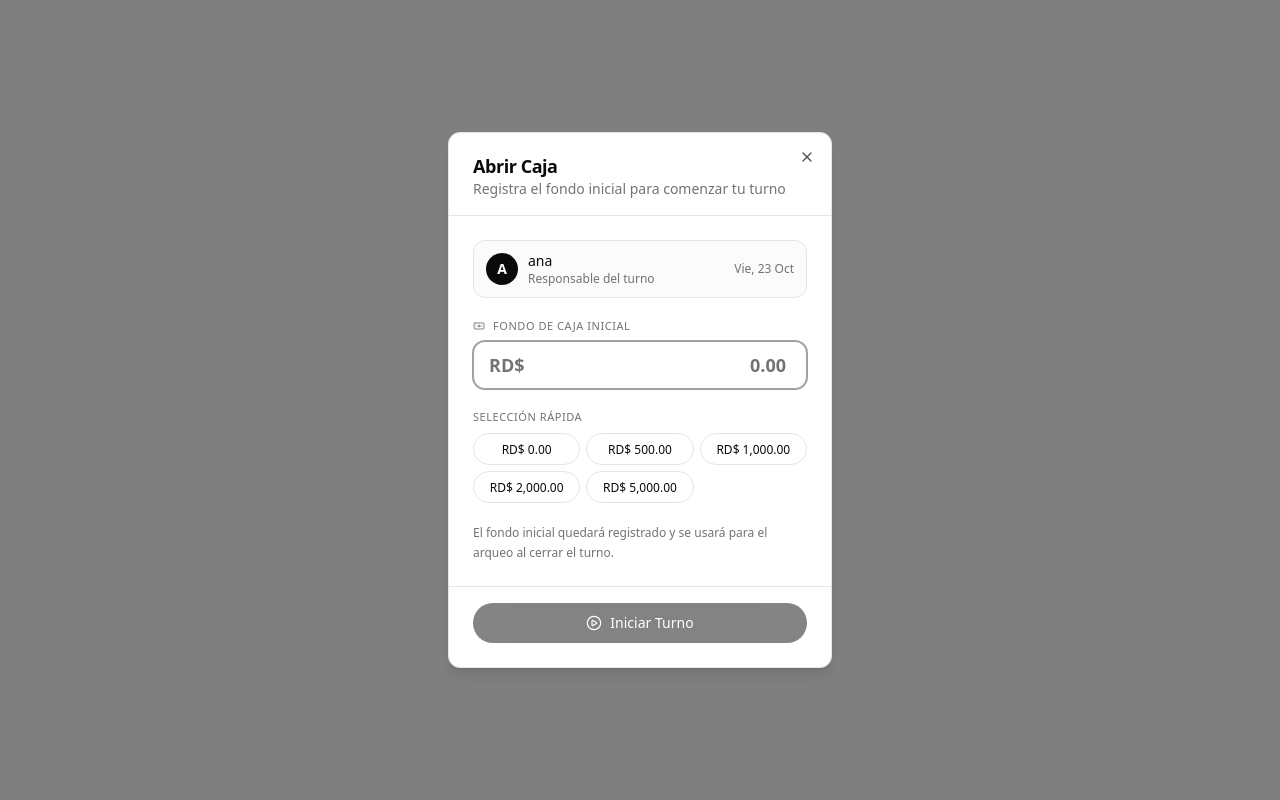
OpenShiftDialog › keeps the submit button disabled without a valid amount
The image size is (1280, 800).
Check: the button "Iniciar Turno" is disabled, box [473, 603, 807, 643]
Type "150.25" into the field with placeholder "0.00" at (640,364), box [473, 340, 807, 388]
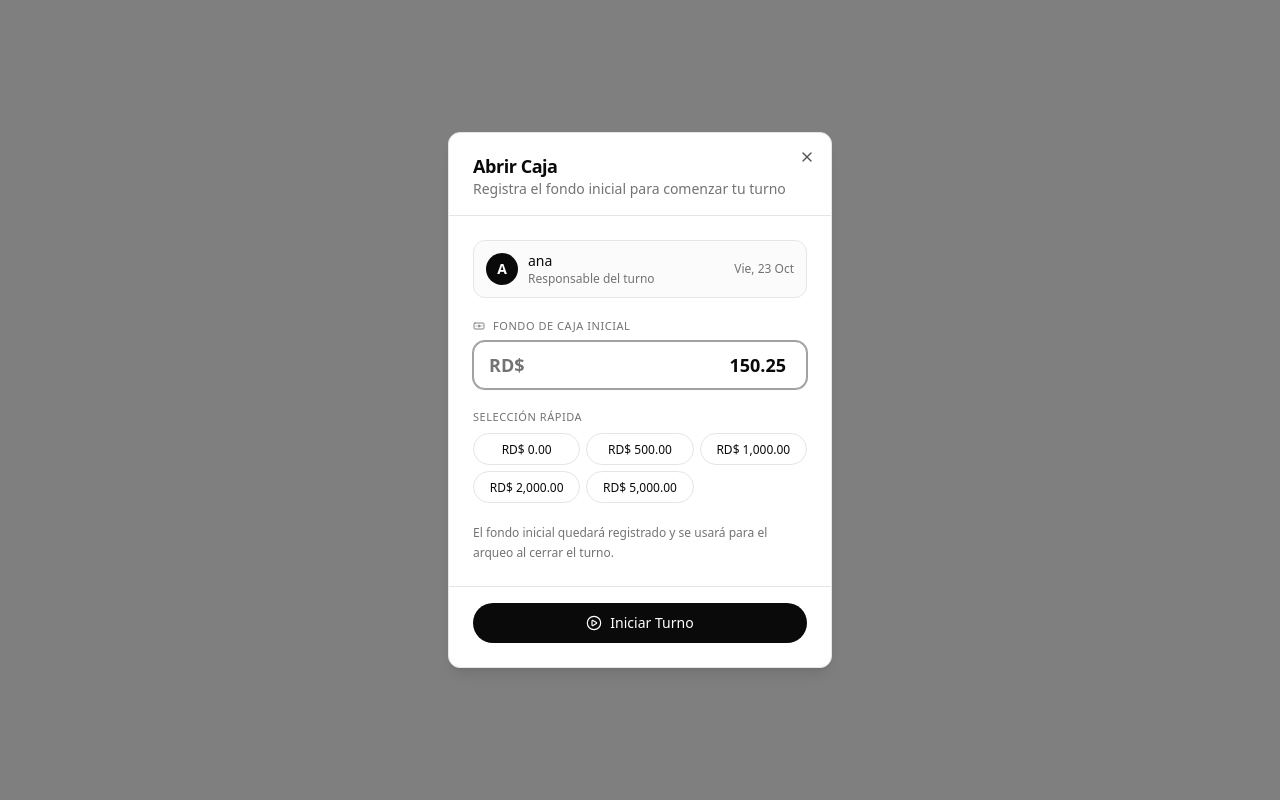
Check: the button "Iniciar Turno" is enabled, box [473, 603, 807, 643]
Clear the field with placeholder "0.00" at (640,364), box [473, 340, 807, 388]
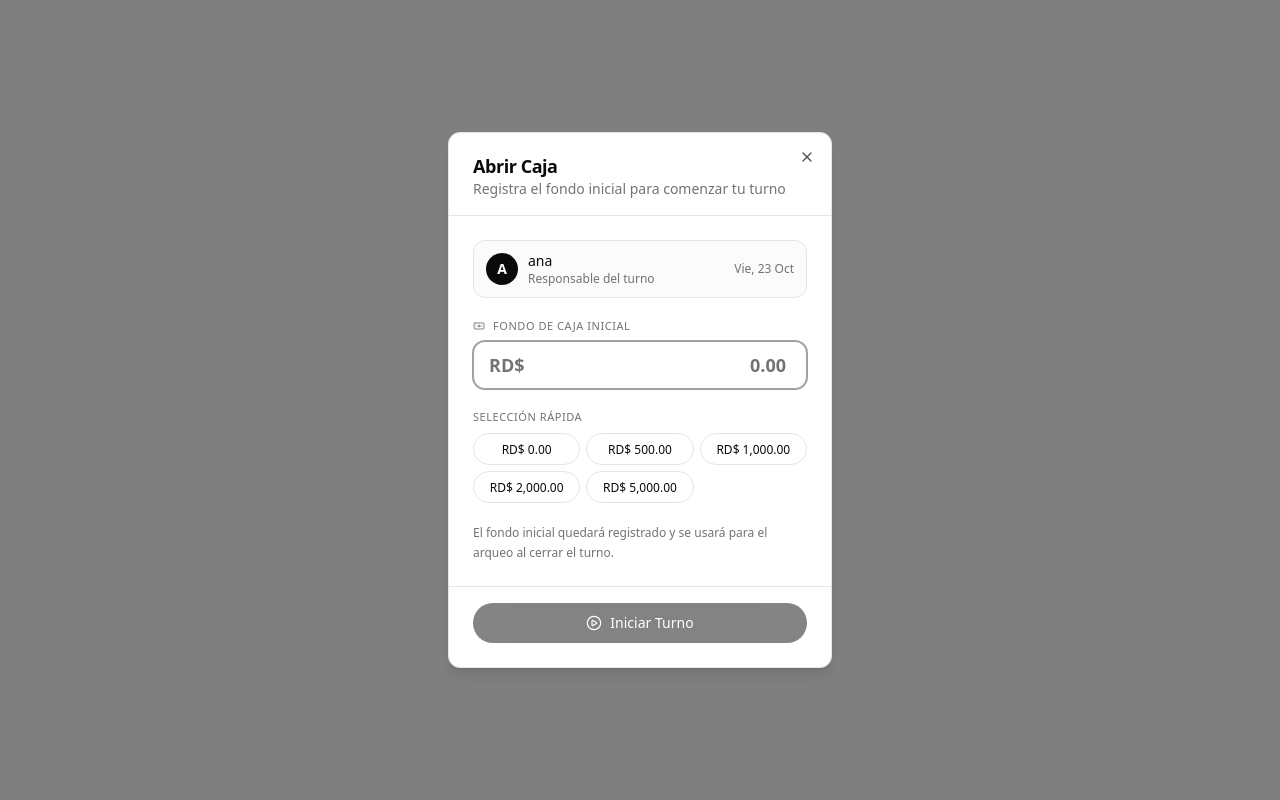
Check: the button "Iniciar Turno" is disabled, box [473, 603, 807, 643]
